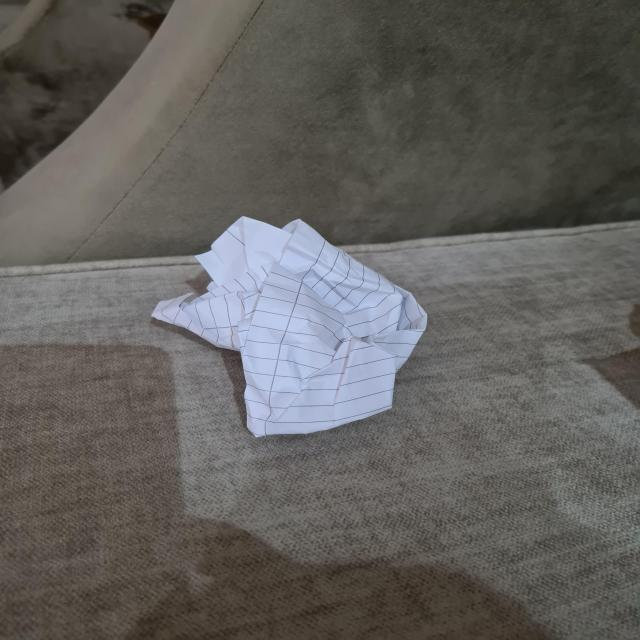trash: (152, 224, 428, 436)
